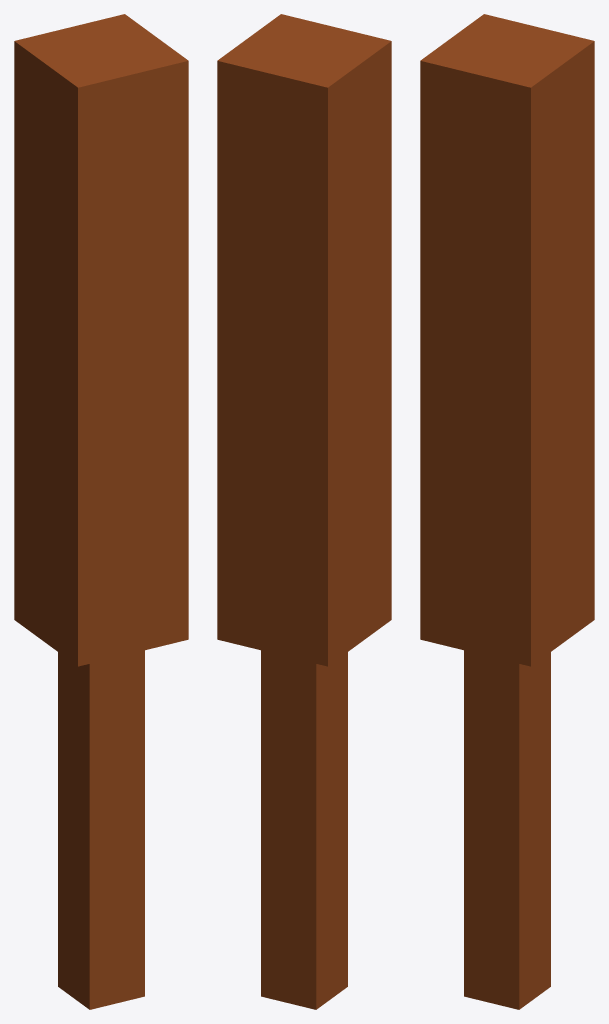
The model's file is bat.obj.
The picture shows the model from 3 angles, left to right: view 1: azimuth 30°, elevation 25°; view 2: azimuth 150°, elevation 25°; view 3: azimuth 330°, elevation 25°; orthographic projection.
Bounding box in the file's own units: 0.16 × 1.3 × 0.16.
